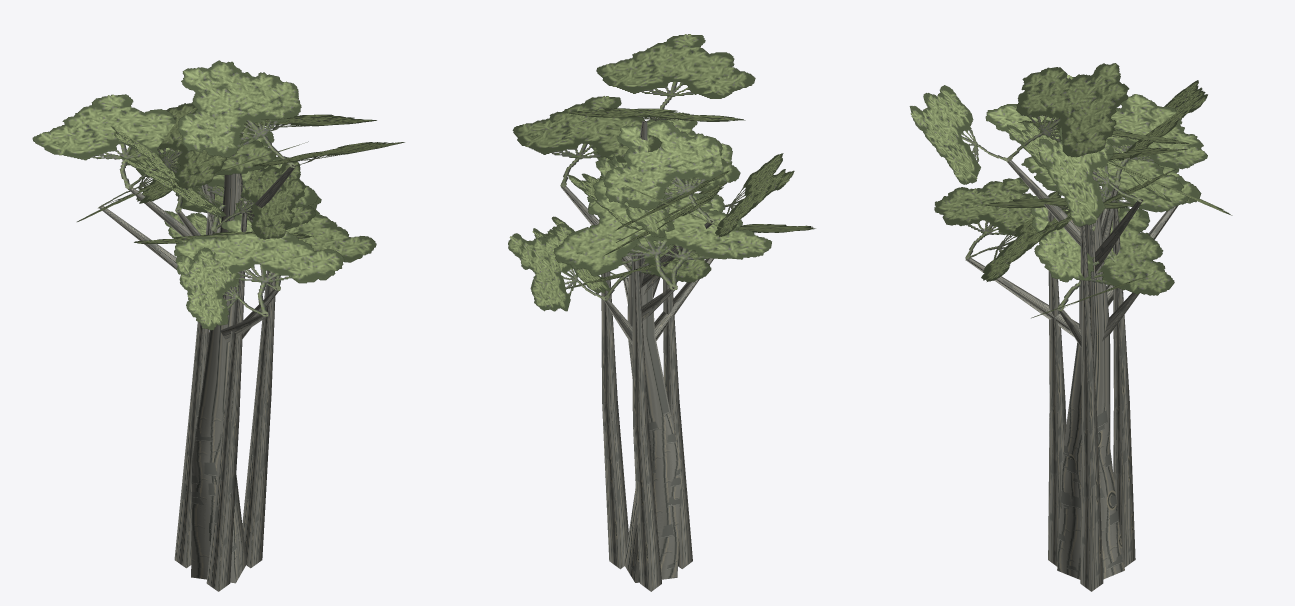
Rendered from ashland-regrowth-mobile.glb.
3 renders of one model, left to right at view 1: azimuth 30°, elevation 25°; view 2: azimuth 150°, elevation 25°; view 3: azimuth 270°, elevation 25°, orthographic. The views are drawn at different scales.
Visible parts, largest first — view 1: Ashland regrowth mobile v3 runtime; view 2: Ashland regrowth mobile v3 runtime; view 3: Ashland regrowth mobile v3 runtime.
Part boxes in pixels (x1=…): Ashland regrowth mobile v3 runtime: x1=32, y1=60, x2=404, y2=591; Ashland regrowth mobile v3 runtime: x1=508, y1=34, x2=815, y2=591; Ashland regrowth mobile v3 runtime: x1=909, y1=63, x2=1232, y2=591.
Size of the model in its own units: 4.46 by 6.65 by 4.79.
1 material, 1 textured.
